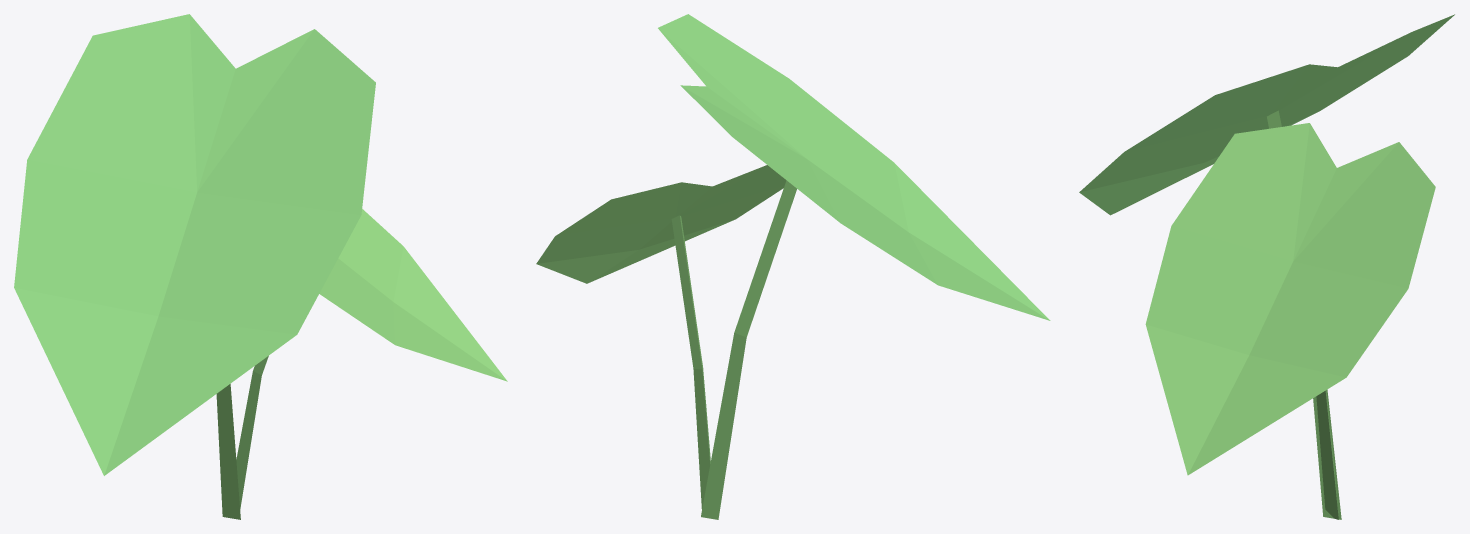
File: Plant_d_OneS_04.fbx
3 views of the same model, side by side, from view 1: azimuth 30°, elevation 25°; view 2: azimuth 150°, elevation 25°; view 3: azimuth 270°, elevation 25° (orthographic). The views are drawn at different scales.
Visible parts, largest first — view 1: Plant_d_OneS_04; view 2: Plant_d_OneS_04; view 3: Plant_d_OneS_04.
Part boxes in pixels (<box>): Plant_d_OneS_04: <box>14,14,507,519</box>; Plant_d_OneS_04: <box>536,14,1050,519</box>; Plant_d_OneS_04: <box>1079,14,1454,519</box>.
Bounding box in the file's own units: 60.38 × 62.62 × 44.05.
